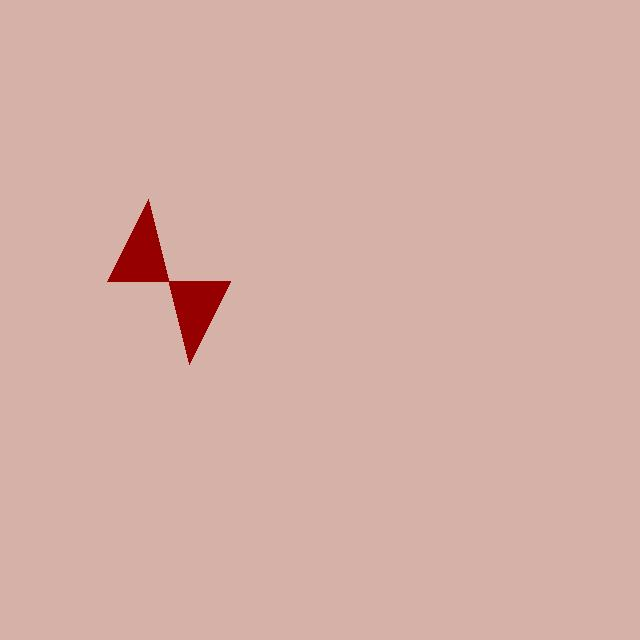laceration: (107, 199, 230, 364)
